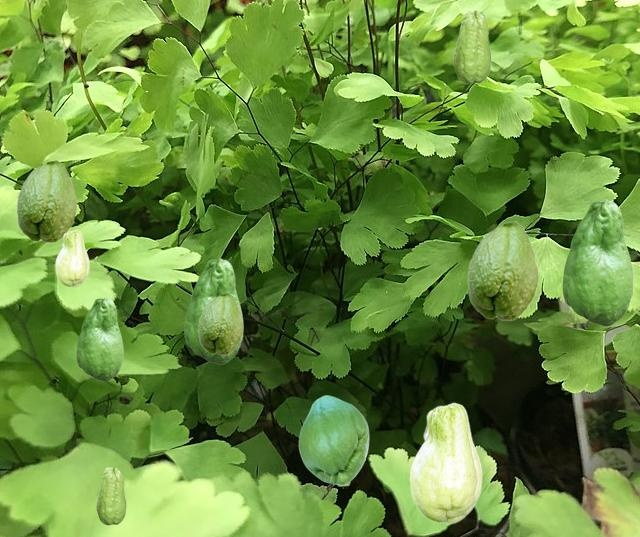sayote: (562, 199, 632, 325), (409, 402, 481, 523), (467, 220, 538, 320), (298, 395, 368, 484), (184, 258, 242, 363), (16, 159, 76, 242), (76, 297, 122, 380), (198, 292, 242, 354), (453, 10, 490, 83), (55, 229, 88, 286), (96, 467, 125, 524)
